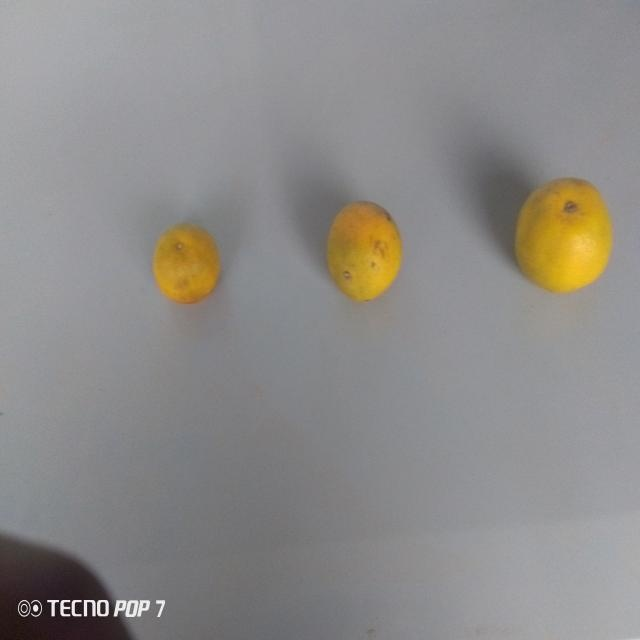agrume: (508, 174, 616, 298), (321, 194, 408, 309), (153, 224, 231, 307)
